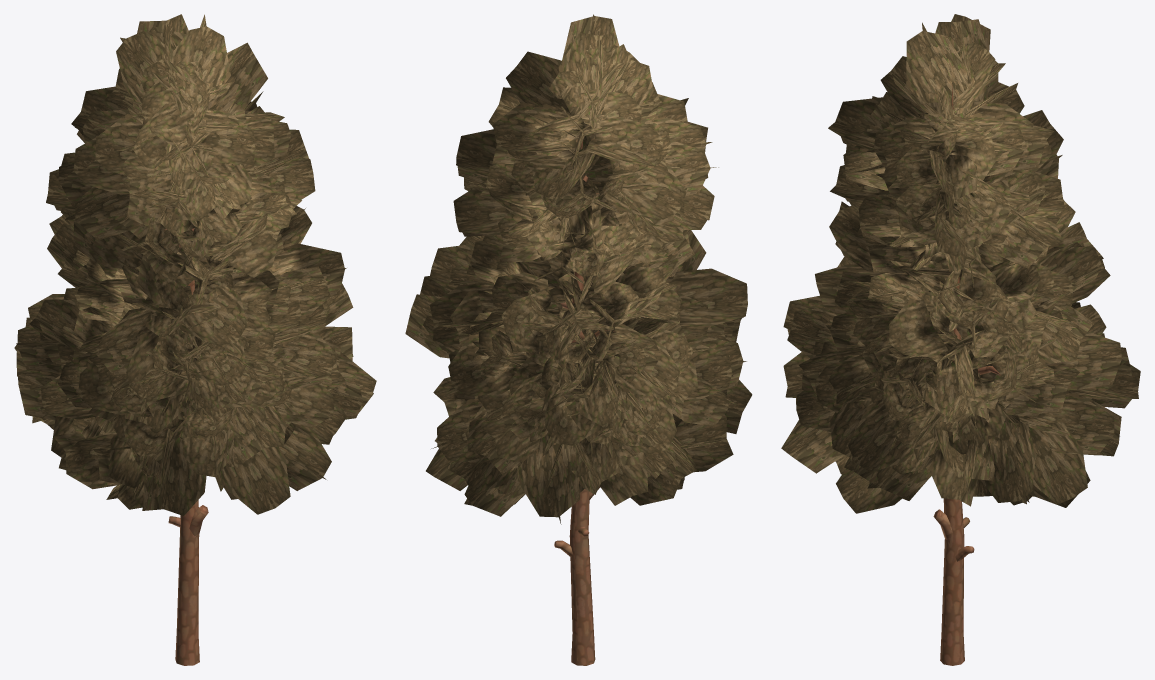
The model's file is P_FirTree2.obj.
3 renders of one model, left to right at view 1: azimuth 30°, elevation 25°; view 2: azimuth 150°, elevation 25°; view 3: azimuth 270°, elevation 25°, orthographic. The views are drawn at different scales.
Bounding box in the file's own units: 8.79 × 17.47 × 9.
